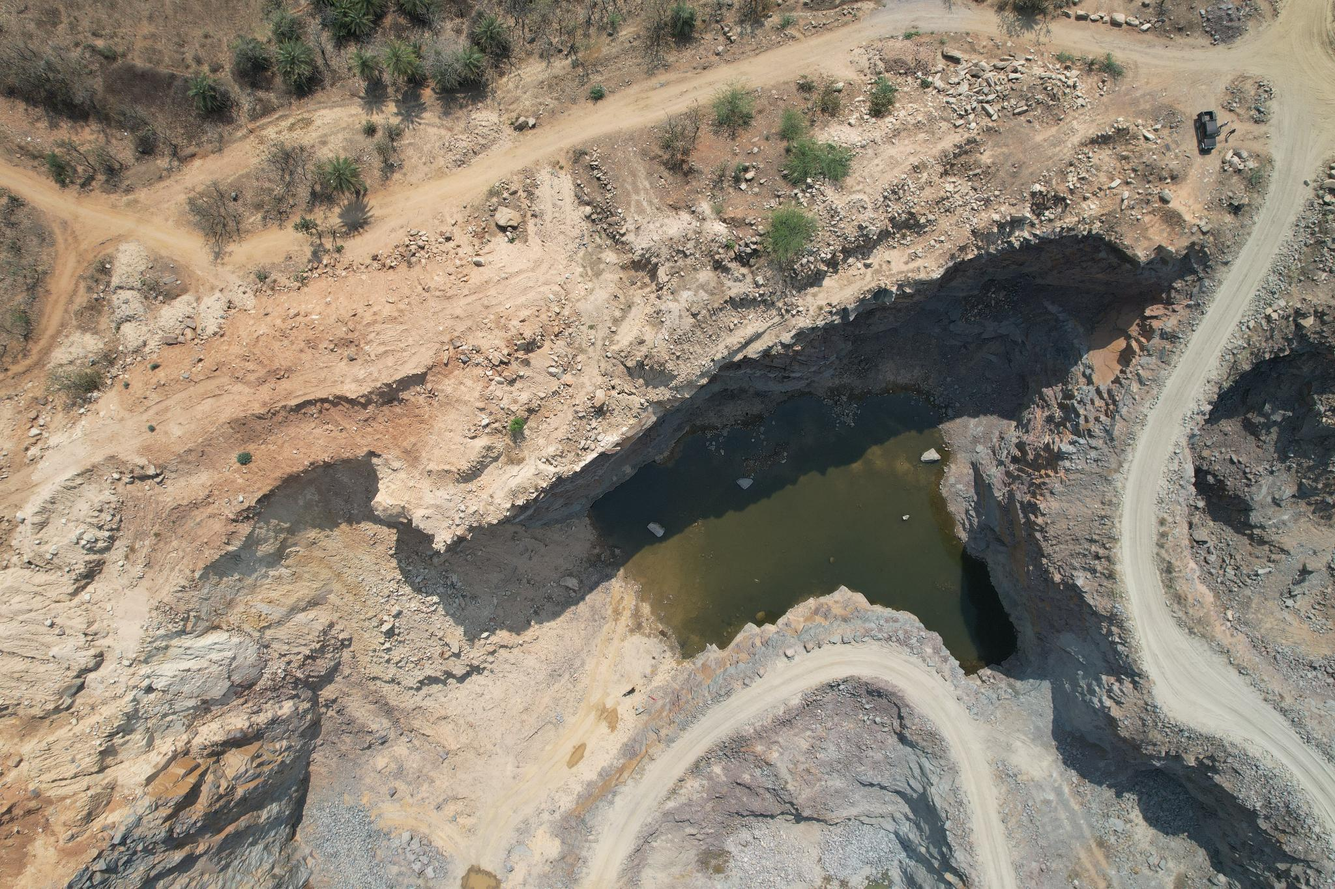benches: (1116, 57, 1335, 829), (362, 0, 1029, 235), (584, 644, 1019, 889), (0, 104, 371, 380), (1042, 0, 1335, 127), (388, 98, 470, 142)
truck: (1201, 106, 1229, 159)
